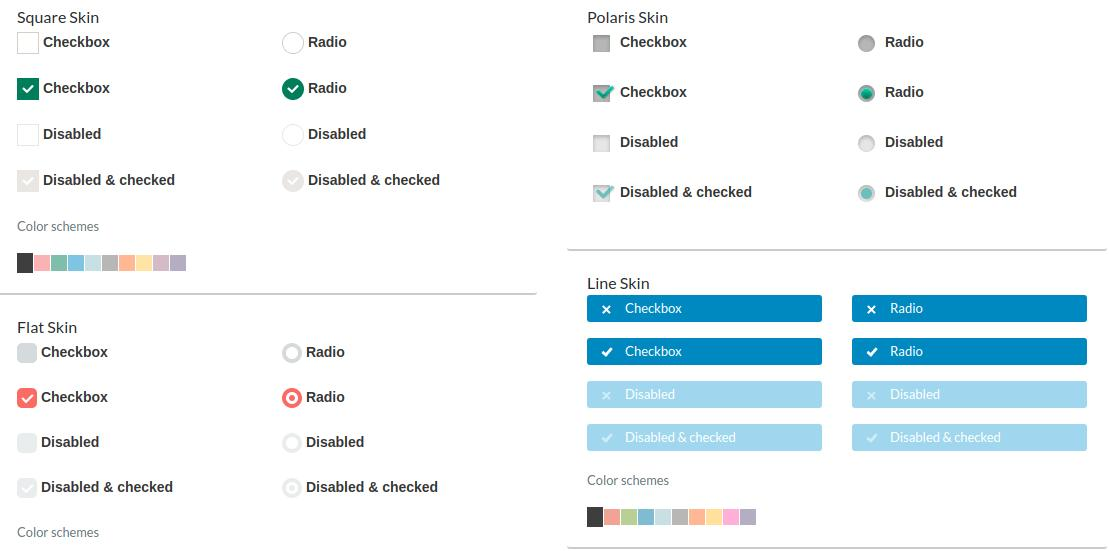checkbox: (8, 60, 43, 111), (580, 72, 618, 111), (584, 173, 620, 211), (9, 424, 43, 462), (10, 161, 43, 200), (11, 115, 43, 153), (580, 127, 615, 158), (14, 334, 41, 373), (587, 29, 617, 63), (11, 379, 40, 411), (8, 479, 40, 503), (16, 27, 40, 54)
radiobutton: (274, 334, 306, 372), (276, 70, 308, 103), (277, 421, 308, 455), (278, 23, 308, 57), (276, 468, 306, 502), (846, 131, 880, 160), (276, 169, 308, 199), (845, 178, 878, 204), (852, 78, 880, 107), (280, 120, 307, 150), (855, 27, 880, 59), (278, 384, 304, 414)
